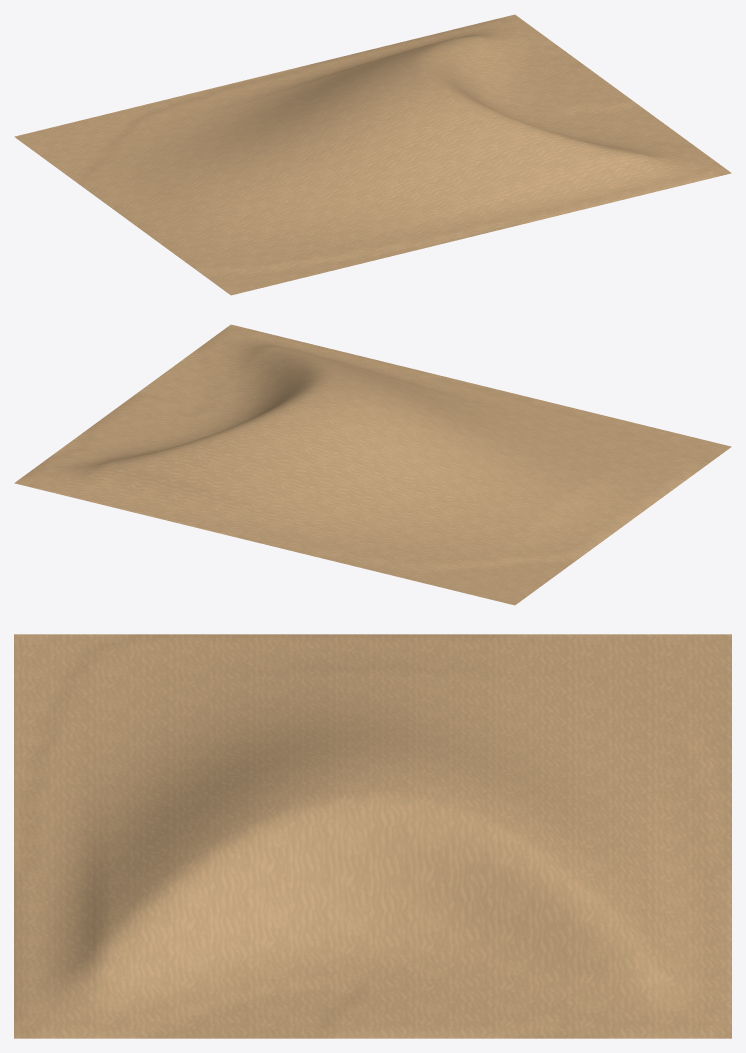
The model's file is kum_tepesi_kucuk.gltf.
3 renders of one model, top to bottom at view 1: azimuth 30°, elevation 25°; view 2: azimuth 150°, elevation 25°; view 3: azimuth 270°, elevation 25°, orthographic. The views are drawn at different scales.
Visible parts, largest first — view 1: kum_tepesi_kucuk; view 2: kum_tepesi_kucuk; view 3: kum_tepesi_kucuk.
Part boxes in pixels (x1,y1,x2,y2): kum_tepesi_kucuk: (14, 14, 731, 295); kum_tepesi_kucuk: (14, 324, 731, 605); kum_tepesi_kucuk: (14, 634, 731, 1038).
Size of what is drawn, in the model's own units: 24 by 2.52 by 18.
1 material, 1 textured.
